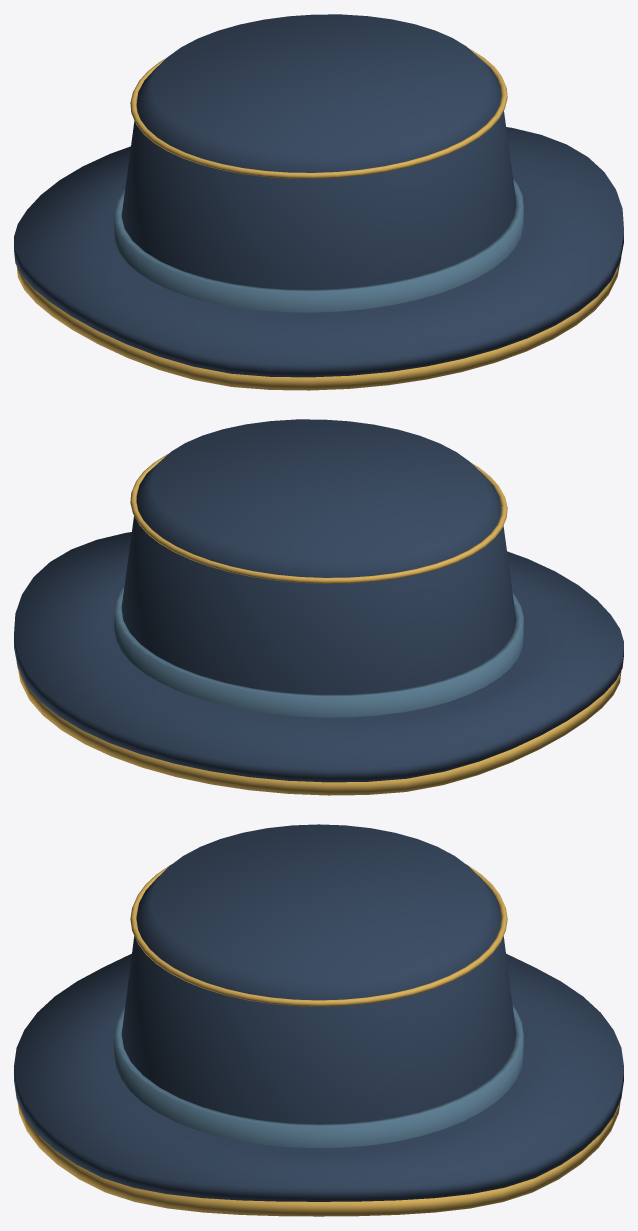
File: 19-storm-slicker.glb
3 views of the same model, one above another, from view 1: azimuth 30°, elevation 25°; view 2: azimuth 150°, elevation 25°; view 3: azimuth 270°, elevation 25° (orthographic). The views are drawn at different scales.
Parts seen in each view (by area): view 1: Hat19_Crown1, Hat19_Brim3, Hat19_Band4, Hat19_Brim2, Hat19_Piping5; view 2: Hat19_Crown1, Hat19_Brim3, Hat19_Band4, Hat19_Brim2, Hat19_Piping5; view 3: Hat19_Crown1, Hat19_Brim3, Hat19_Band4, Hat19_Brim2, Hat19_Piping5.
Boxes of the visible parts, x1,y1,x2,y2 form: Hat19_Crown1: (121, 14, 516, 289); Hat19_Brim3: (14, 127, 623, 377); Hat19_Band4: (114, 179, 523, 312); Hat19_Brim2: (16, 257, 621, 390); Hat19_Piping5: (130, 49, 507, 178); Hat19_Crown1: (121, 419, 516, 694); Hat19_Brim3: (14, 532, 623, 782); Hat19_Band4: (114, 584, 523, 717); Hat19_Brim2: (16, 662, 621, 795); Hat19_Piping5: (130, 454, 507, 583); Hat19_Crown1: (121, 824, 516, 1124); Hat19_Brim3: (14, 953, 623, 1201); Hat19_Band4: (114, 1005, 523, 1147); Hat19_Brim2: (17, 1101, 620, 1216); Hat19_Piping5: (130, 864, 507, 1006).
Size of the model in its own units: 0.954 by 0.313 by 0.8872.
